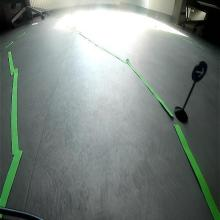right: (191, 60, 208, 83)
